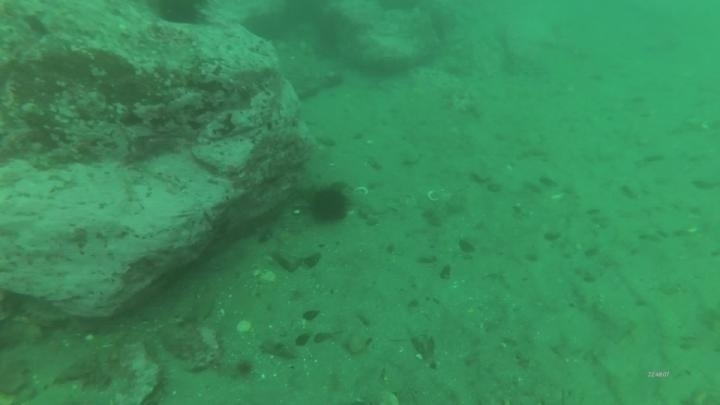echinus: (306, 183, 352, 227), (150, 1, 208, 28)
